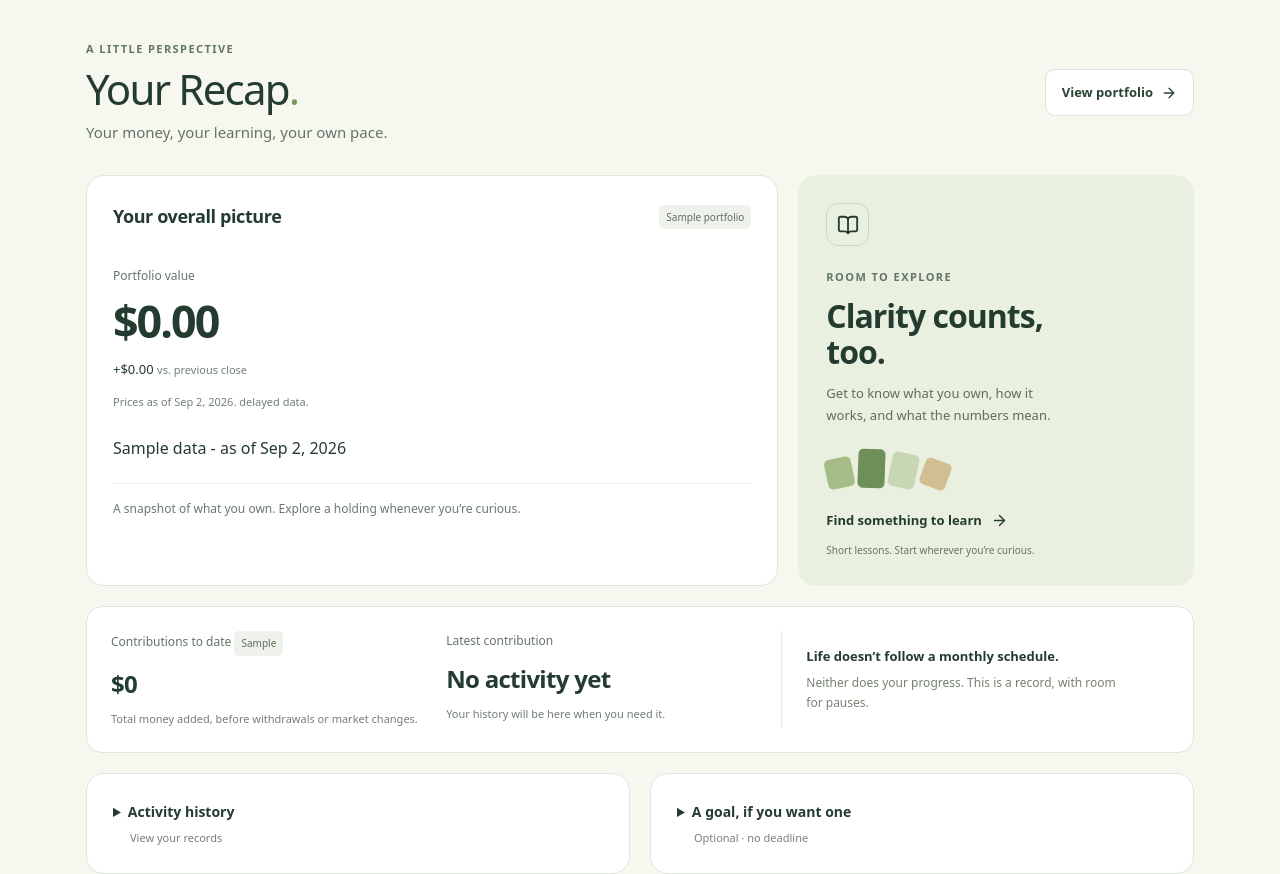
Test: Recap at your own pace › makes goals optional and hides progress while paused
This screenshot has width=1280, height=874.
Click the heading "A goal, if you want one". click: (772, 823)
box: [692, 802, 851, 845]
(page scrolled)
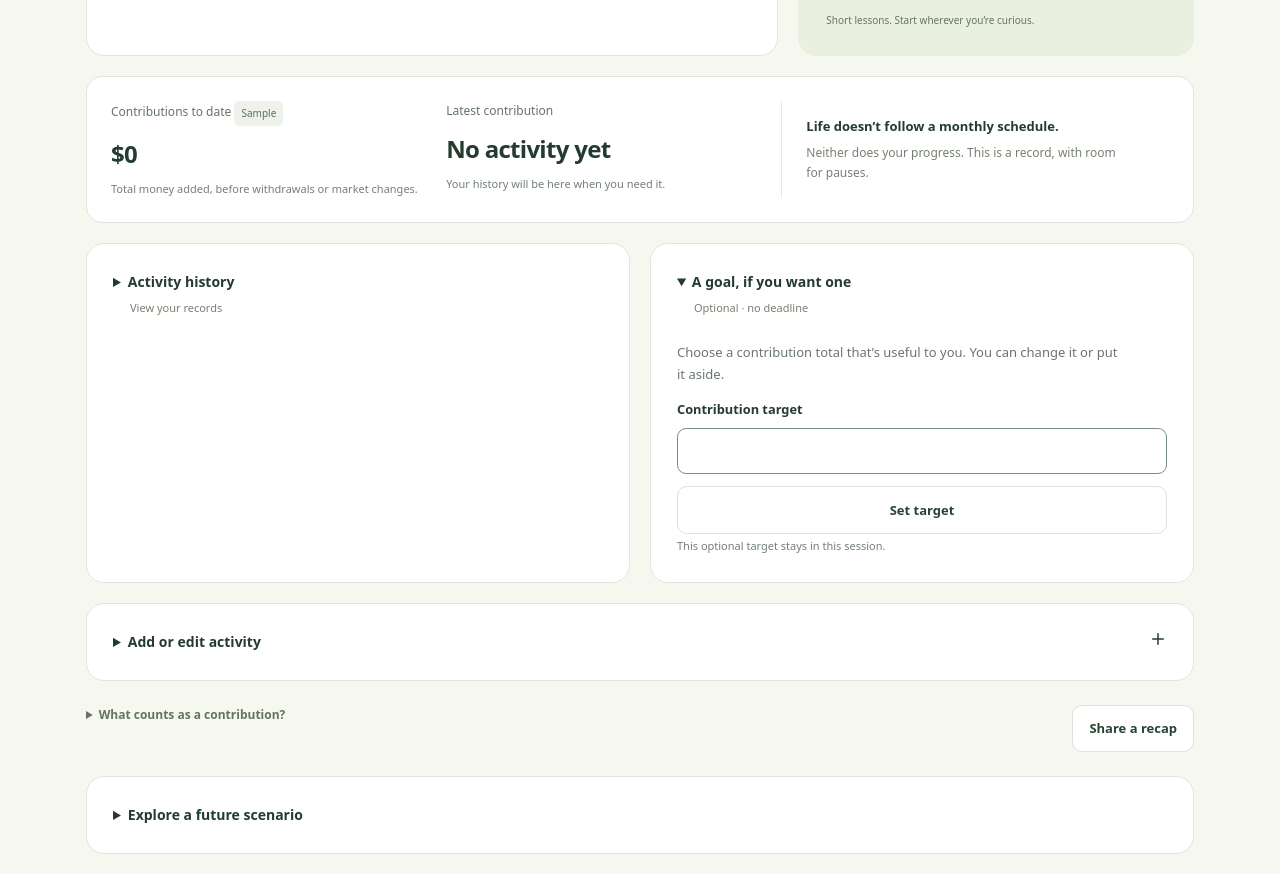
Type "1000" into the number field labelled "Contribution target". click: (922, 451)
box: [677, 428, 1167, 474]
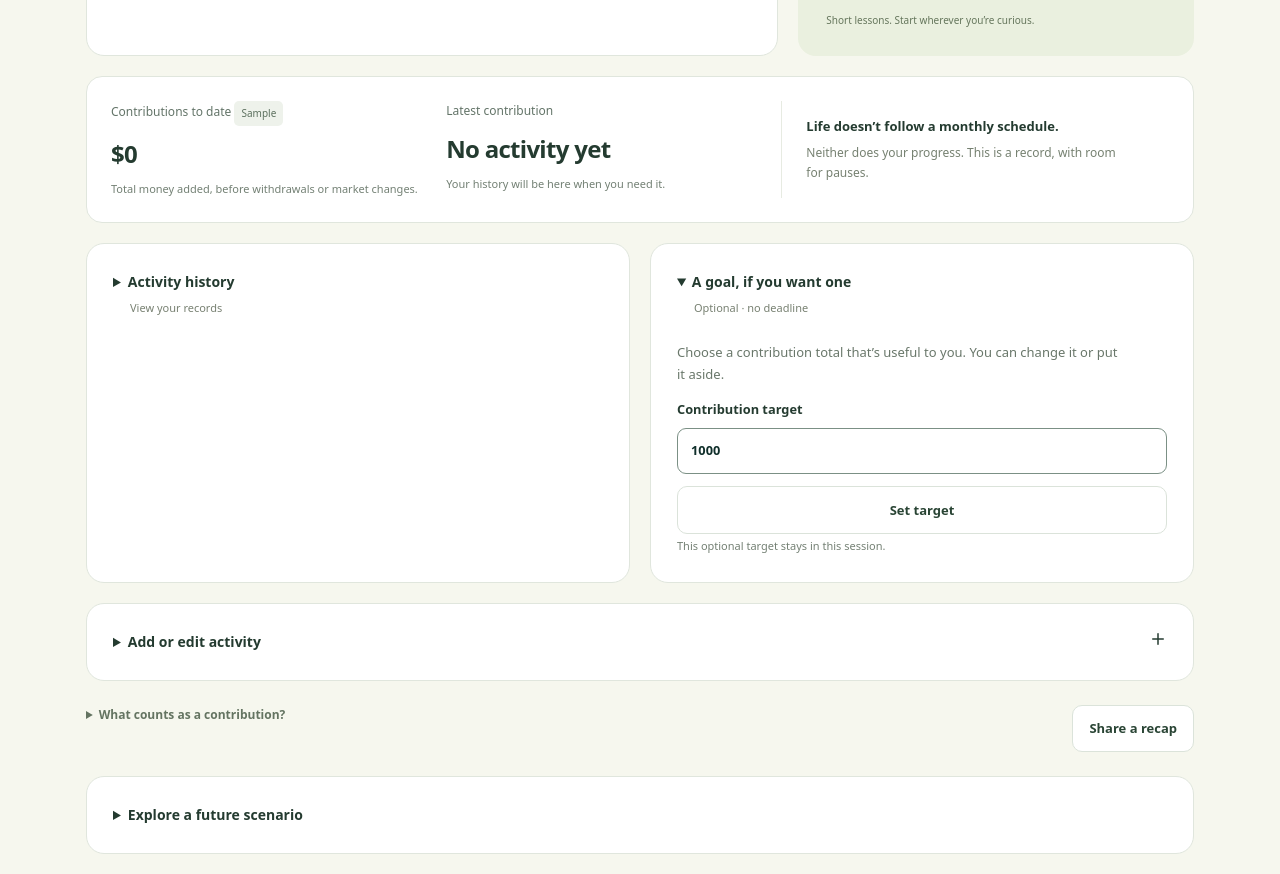
Click the button "Set target". click: (922, 510)
box: [677, 486, 1167, 534]
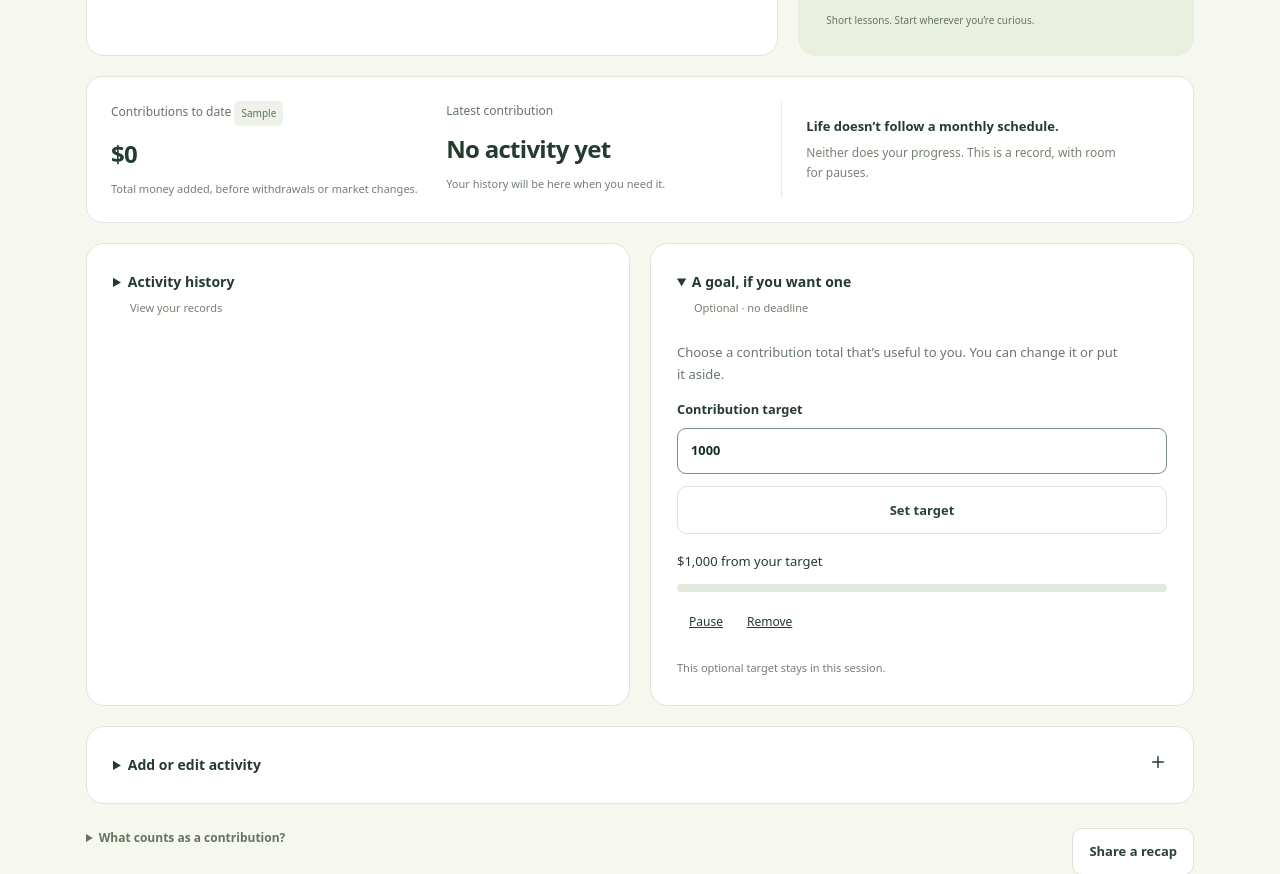
expect the progress indicator is shown: met, box [677, 584, 1167, 592]
Click the button "Pause". click: (706, 622)
box: [677, 604, 735, 640]
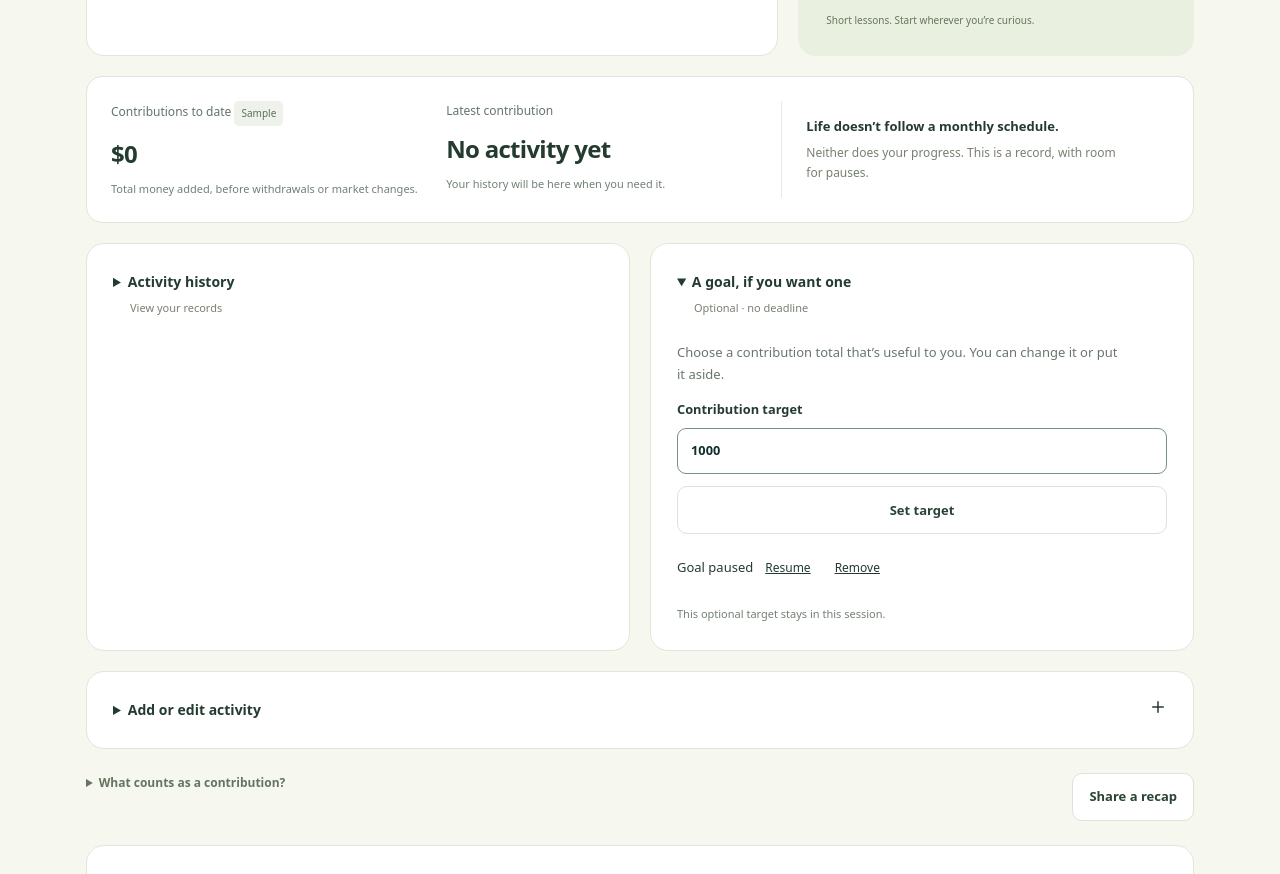
expect the text "Goal paused" is shown: met, box [677, 558, 753, 576]
expect the progress indicator is gone: met
Click the button "Resume". click: (788, 568)
box: [753, 550, 823, 586]
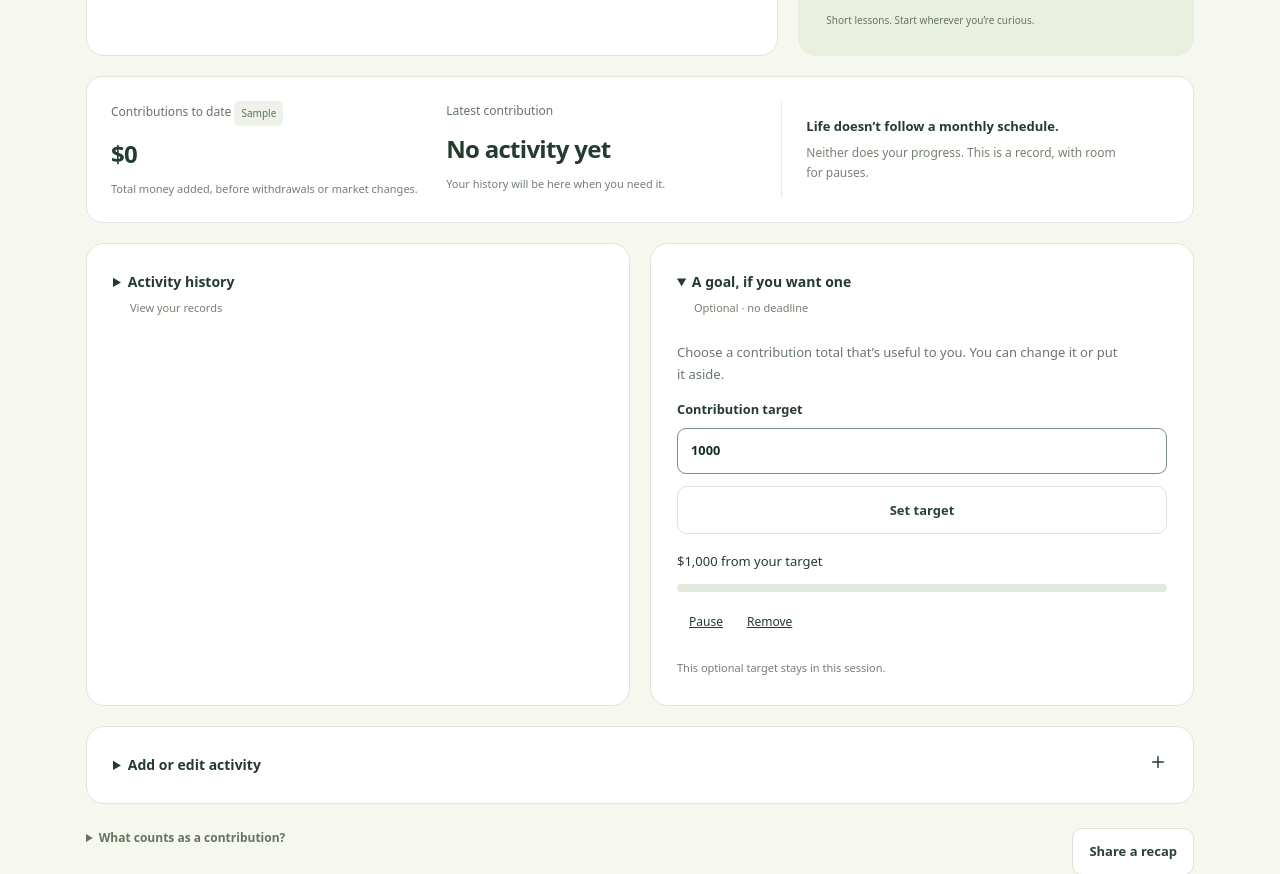
expect the progress indicator is shown: met, box [677, 584, 1167, 592]
